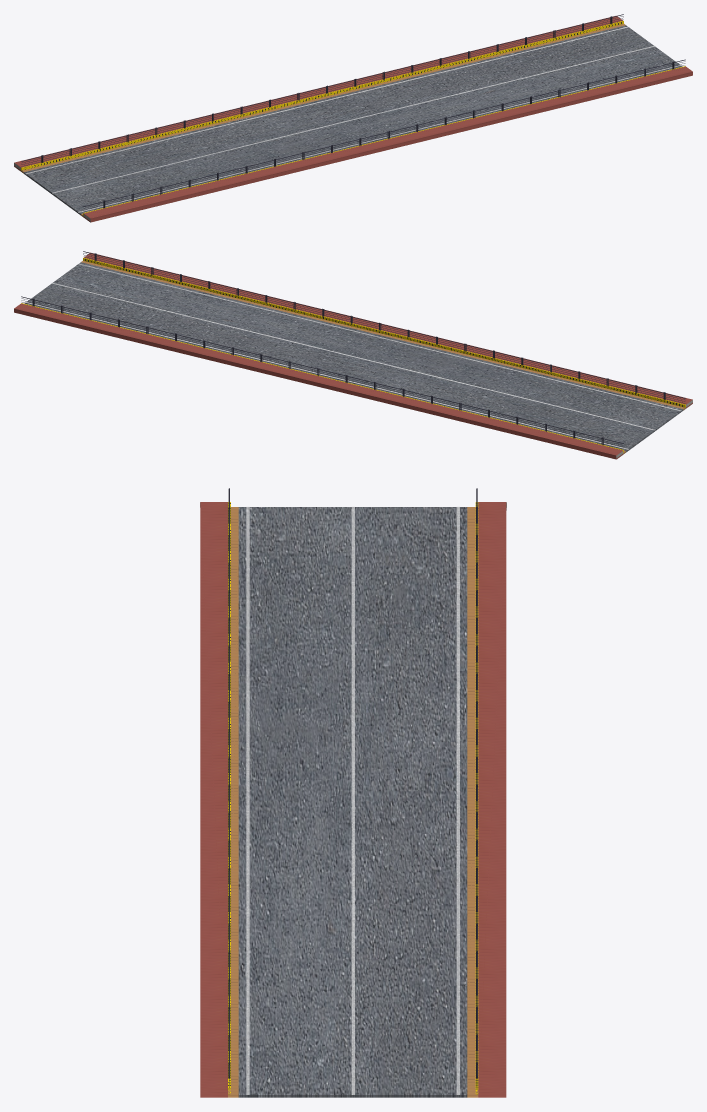
The model's file is suidao-malu.obj.
3 views of the same model, one above another, from view 1: azimuth 30°, elevation 25°; view 2: azimuth 150°, elevation 25°; view 3: azimuth 270°, elevation 25° (orthographic). The views are drawn at different scales.
Visible parts, largest first — view 1: suidao_malu; view 2: suidao_malu; view 3: suidao_malu.
Boxes of the visible parts, <box> form: suidao_malu: <box>14,14,692,222</box>; suidao_malu: <box>14,251,692,459</box>; suidao_malu: <box>200,488,506,1097</box>.
Size of the model in its own units: 50036 by 935 by 11029.
7 materials, 5 textured.
